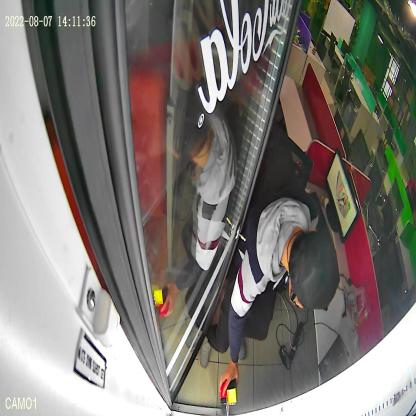red: (220, 380, 230, 416)
yellow: (227, 378, 237, 406)
